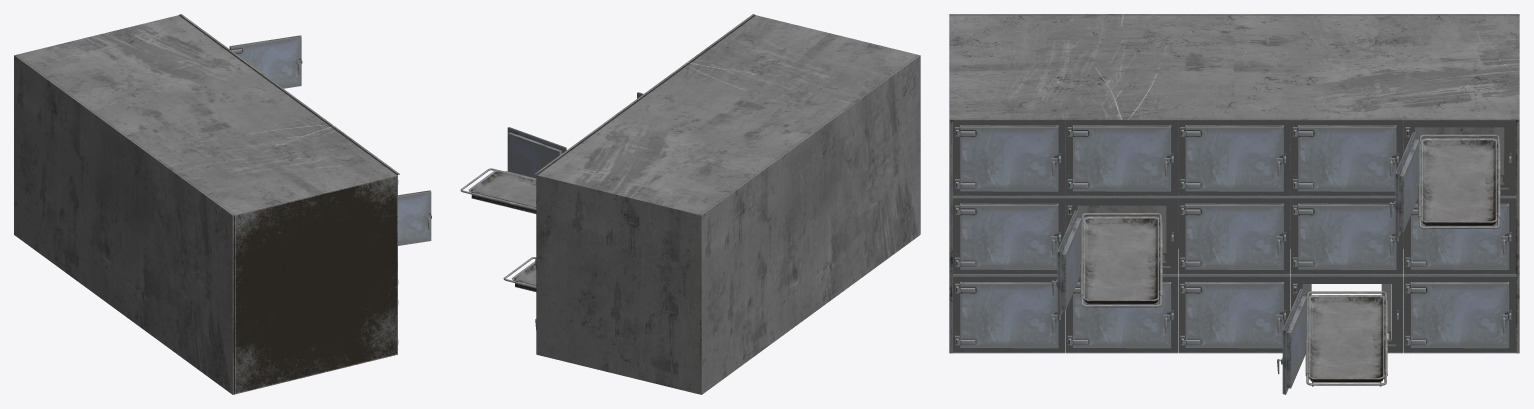
File: morgue_cabinet.glb
The picture shows the model from 3 angles, left to right: view 1: azimuth 30°, elevation 25°; view 2: azimuth 150°, elevation 25°; view 3: azimuth 270°, elevation 25°; orthographic projection. The views are drawn at different scales.
Parts seen in each view (by area): view 1: Wall_Wall_0, door_Door_0; view 2: Wall_Wall_0, br_Takht_0, door_Door_0; view 3: door_Door_0, Wall_Wall_0, base_Base_0, br_Takht_0.
Part boxes in pixels (x1,y1,x2,y2): Wall_Wall_0: (14, 14, 399, 394); door_Door_0: (229, 35, 431, 342); Wall_Wall_0: (534, 14, 920, 394); br_Takht_0: (460, 168, 536, 291); door_Door_0: (507, 92, 643, 329); door_Door_0: (956, 125, 1509, 394); Wall_Wall_0: (949, 14, 1519, 353); base_Base_0: (953, 120, 1515, 353); br_Takht_0: (1080, 134, 1500, 386).
Bounding box in the file's own units: 3.88 × 2.67 × 5.87.
Materials: 4 (4 with a texture image).
